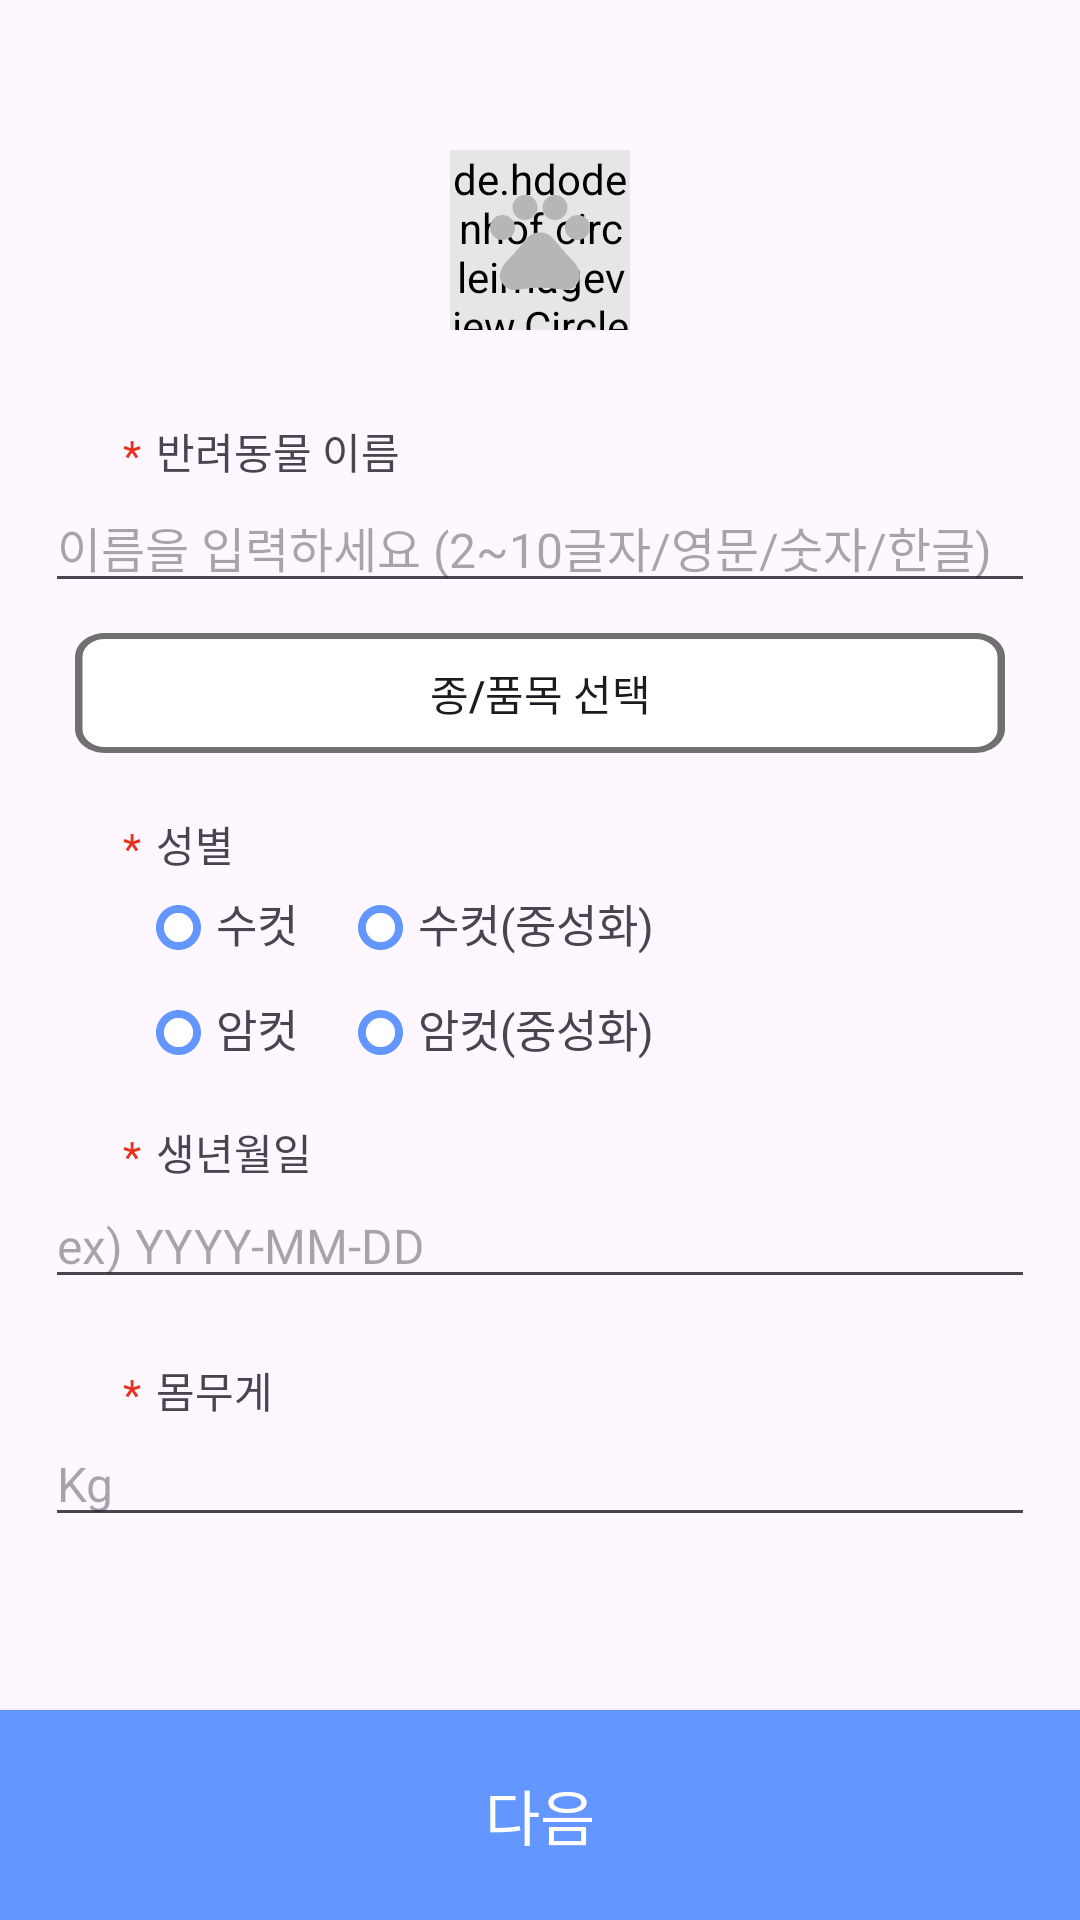

Icons on this 1080 × 1920 Android screen, each with the point to tap as (x,y):
pet: (540,240)
sex checkbox: (178,927), (380,927), (178,1032), (380,1032)
